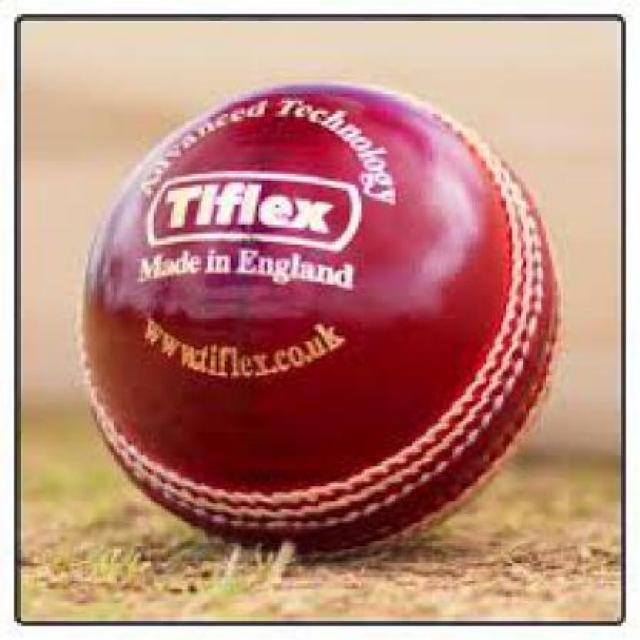ball: (62, 50, 591, 572)
